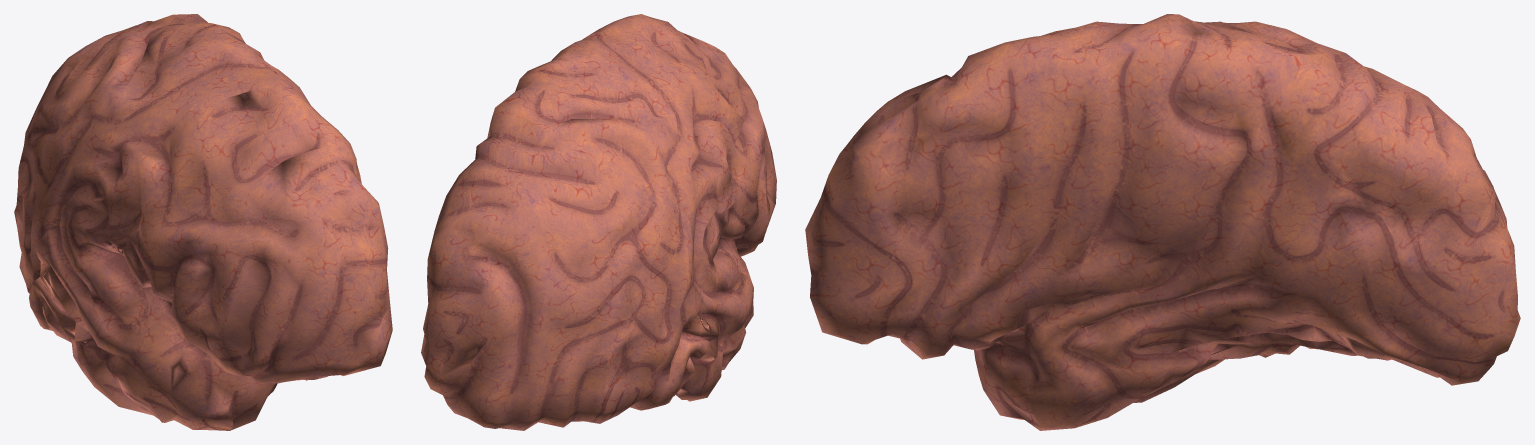
Rendered from BrainRight.FBX.
3 renders of one model, left to right at view 1: azimuth 30°, elevation 25°; view 2: azimuth 150°, elevation 25°; view 3: azimuth 270°, elevation 25°, orthographic. The views are drawn at different scales.
Parts seen in each view (by area): view 1: BrainRight; view 2: BrainRight; view 3: BrainRight.
Boxes of the visible parts, x1,y1,x2,y2 form: BrainRight: (14, 14, 392, 430); BrainRight: (421, 14, 776, 430); BrainRight: (805, 14, 1520, 430).
Size of the model in its own units: 54.74 by 135 by 89.67.
